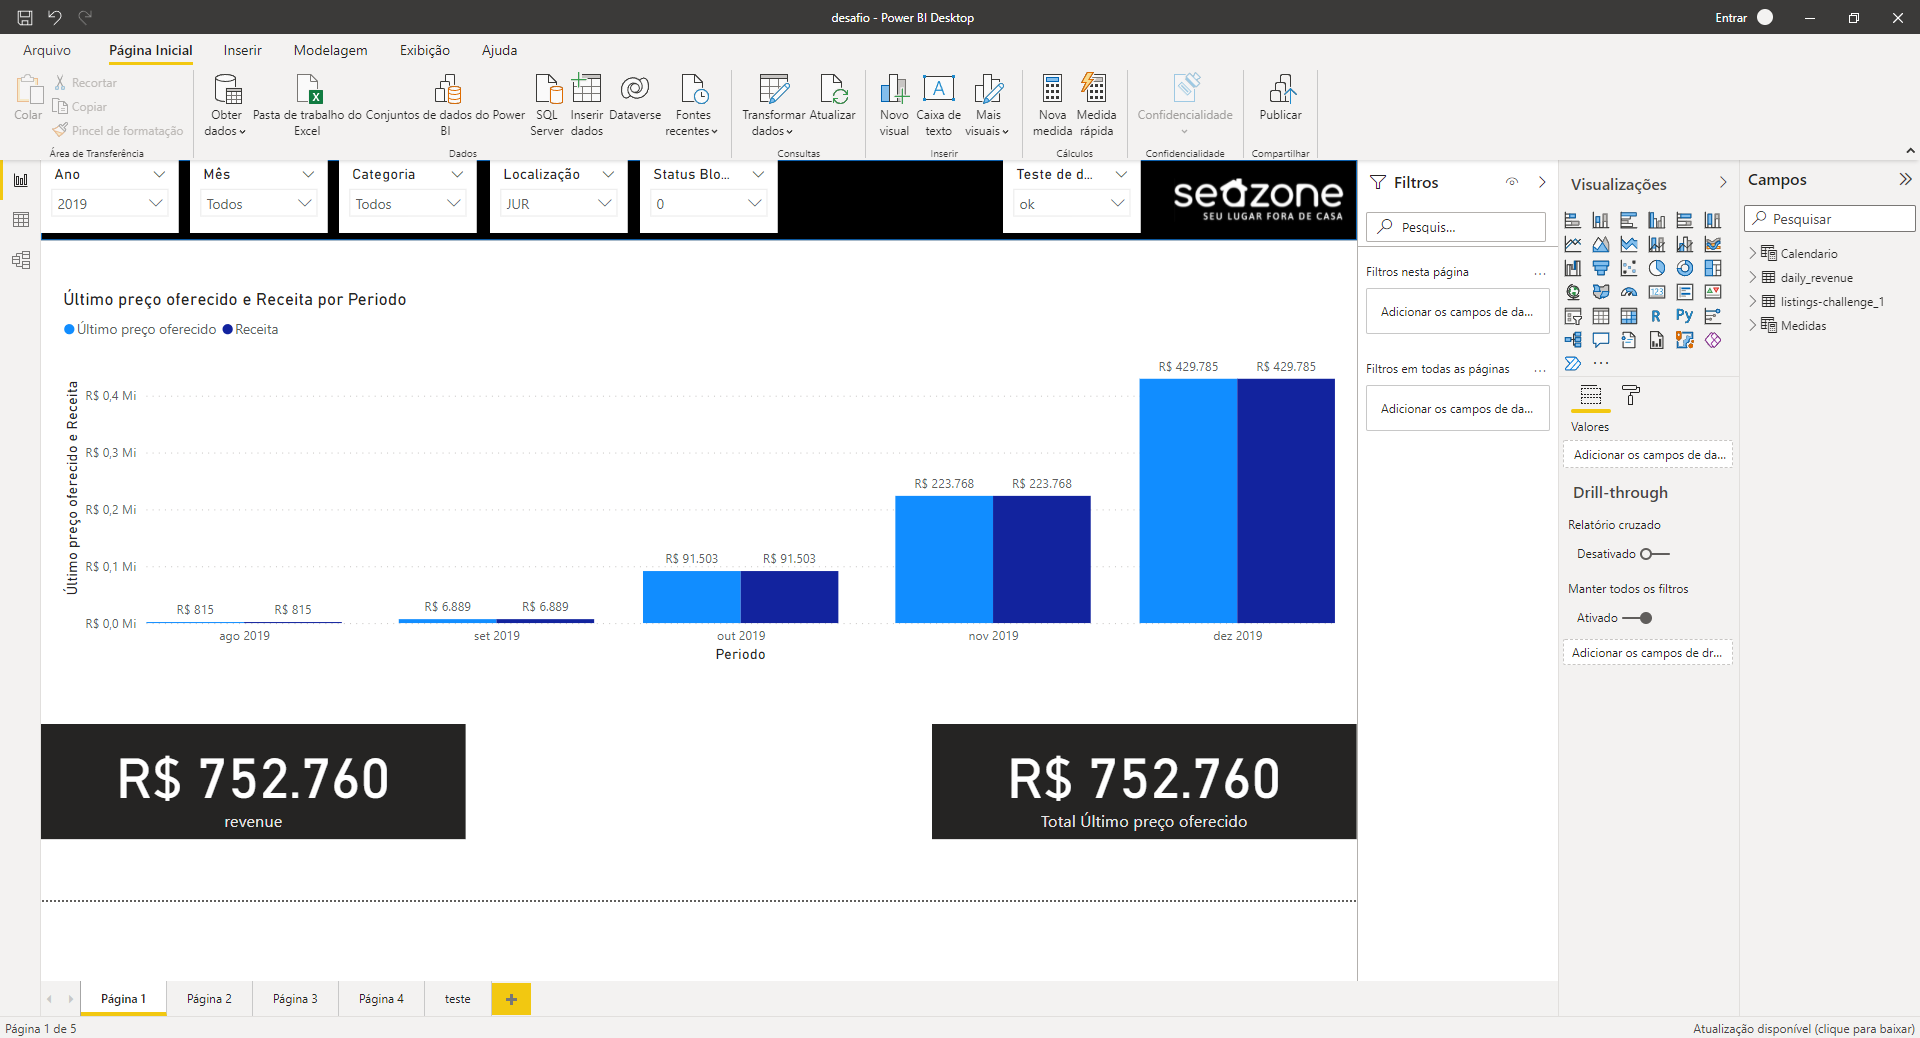

Layout of this report page (visuals, bound fields, positions):
{"tool":"powerbi","page":{"name":"Página 1","canvas":[1280,720],"ordinal":0},"visuals":[{"type":"clusteredColumnChart","fields":{"Y":["Sum(daily_revenue.last_offered_price)","Sum(daily_revenue.revenue)"],"Category":["daily_revenue.Periodo"]},"box":[16.5,125.5,1246.9,367.7],"z":0},{"type":"shape","box":[0,0,1280,77.8],"z":1000},{"type":"slicer","fields":{"Values":["Calendario.Date.Variation.Hierarquia de datas.Ano"]},"box":[0,0,134.2,71],"z":2000},{"type":"slicer","fields":{"Values":["listings-challenge_1.Categoria"]},"box":[289.8,0,134.2,71],"z":3000},{"type":"image","box":[1097.1,0,175.1,77.8],"z":4000},{"type":"slicer","fields":{"Values":["listings-challenge_1.Localização"]},"box":[436.7,0,134.2,71],"z":5000},{"type":"slicer","fields":{"Values":["daily_revenue.teste"]},"box":[935.7,0,134.2,71],"z":6000},{"type":"slicer","fields":{"Values":["Calendario.Date.Variation.Hierarquia de datas.Mês"]},"box":[144.9,0,134.2,71],"z":7000},{"type":"card","fields":{"Values":["Sum(daily_revenue.revenue)"]},"box":[0,548.6,413.4,111.9],"z":8000},{"type":"card","fields":{"Values":["Medidas.mUltimoprecooferecido"]},"box":[866.6,548.6,413.4,111.9],"z":9000},{"type":"slicer","fields":{"Values":["daily_revenue.blocked"]},"box":[582.6,0,134.2,71],"z":10000}]}

Visuals, with their boxes on the page's 1280x720 design canvas (x1, y1, x2, y2). These are canvas units, not pixel positions in the 1920x1038 screenshot, which may show the page scaled, cropped or inside an application window:
clusteredColumnChart - Sum(daily_revenue.last_offered_price) x Sum(daily_revenue.revenue): (16, 126, 1263, 493)
shape: (0, 0, 1280, 78)
slicer - Calendario.Date.Variation.Hierarquia de datas.Ano: (0, 0, 134, 71)
slicer - listings-challenge_1.Categoria: (290, 0, 424, 71)
image: (1097, 0, 1272, 78)
slicer - listings-challenge_1.Localização: (437, 0, 571, 71)
slicer - daily_revenue.teste: (936, 0, 1070, 71)
slicer - Calendario.Date.Variation.Hierarquia de datas.Mês: (145, 0, 279, 71)
card - Sum(daily_revenue.revenue): (0, 549, 413, 660)
card - Medidas.mUltimoprecooferecido: (867, 549, 1280, 660)
slicer - daily_revenue.blocked: (583, 0, 717, 71)
